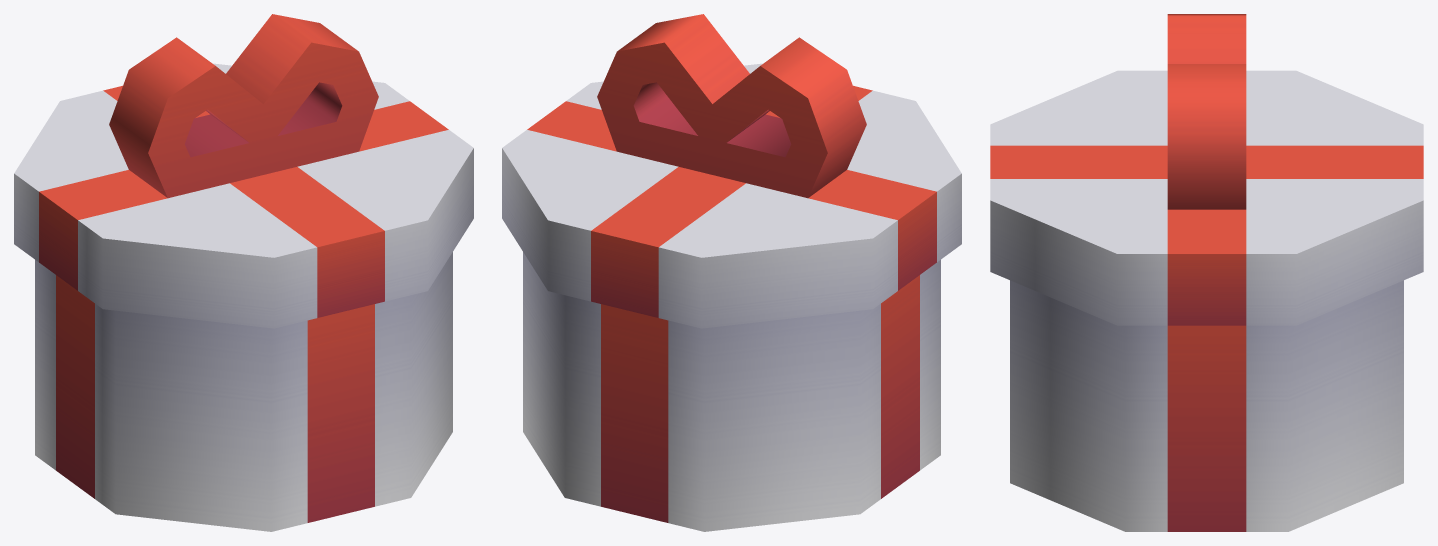
File: cc0-present-round-lod0.glb
3 views of the same model, side by side, from view 1: azimuth 30°, elevation 25°; view 2: azimuth 150°, elevation 25°; view 3: azimuth 270°, elevation 25° (orthographic).
Visible parts, largest first — view 1: part_0; view 2: part_0; view 3: part_0.
Boxes of the visible parts, x1,y1,x2,y2 form: part_0: (14,14,473,531); part_0: (502,14,961,531); part_0: (990,14,1423,531).
Bounding box in the file's own units: 0.5489 × 0.5707 × 0.5489.
Materials: 1 (1 with a texture image).
